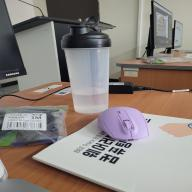mouse: (96, 106, 151, 142)
